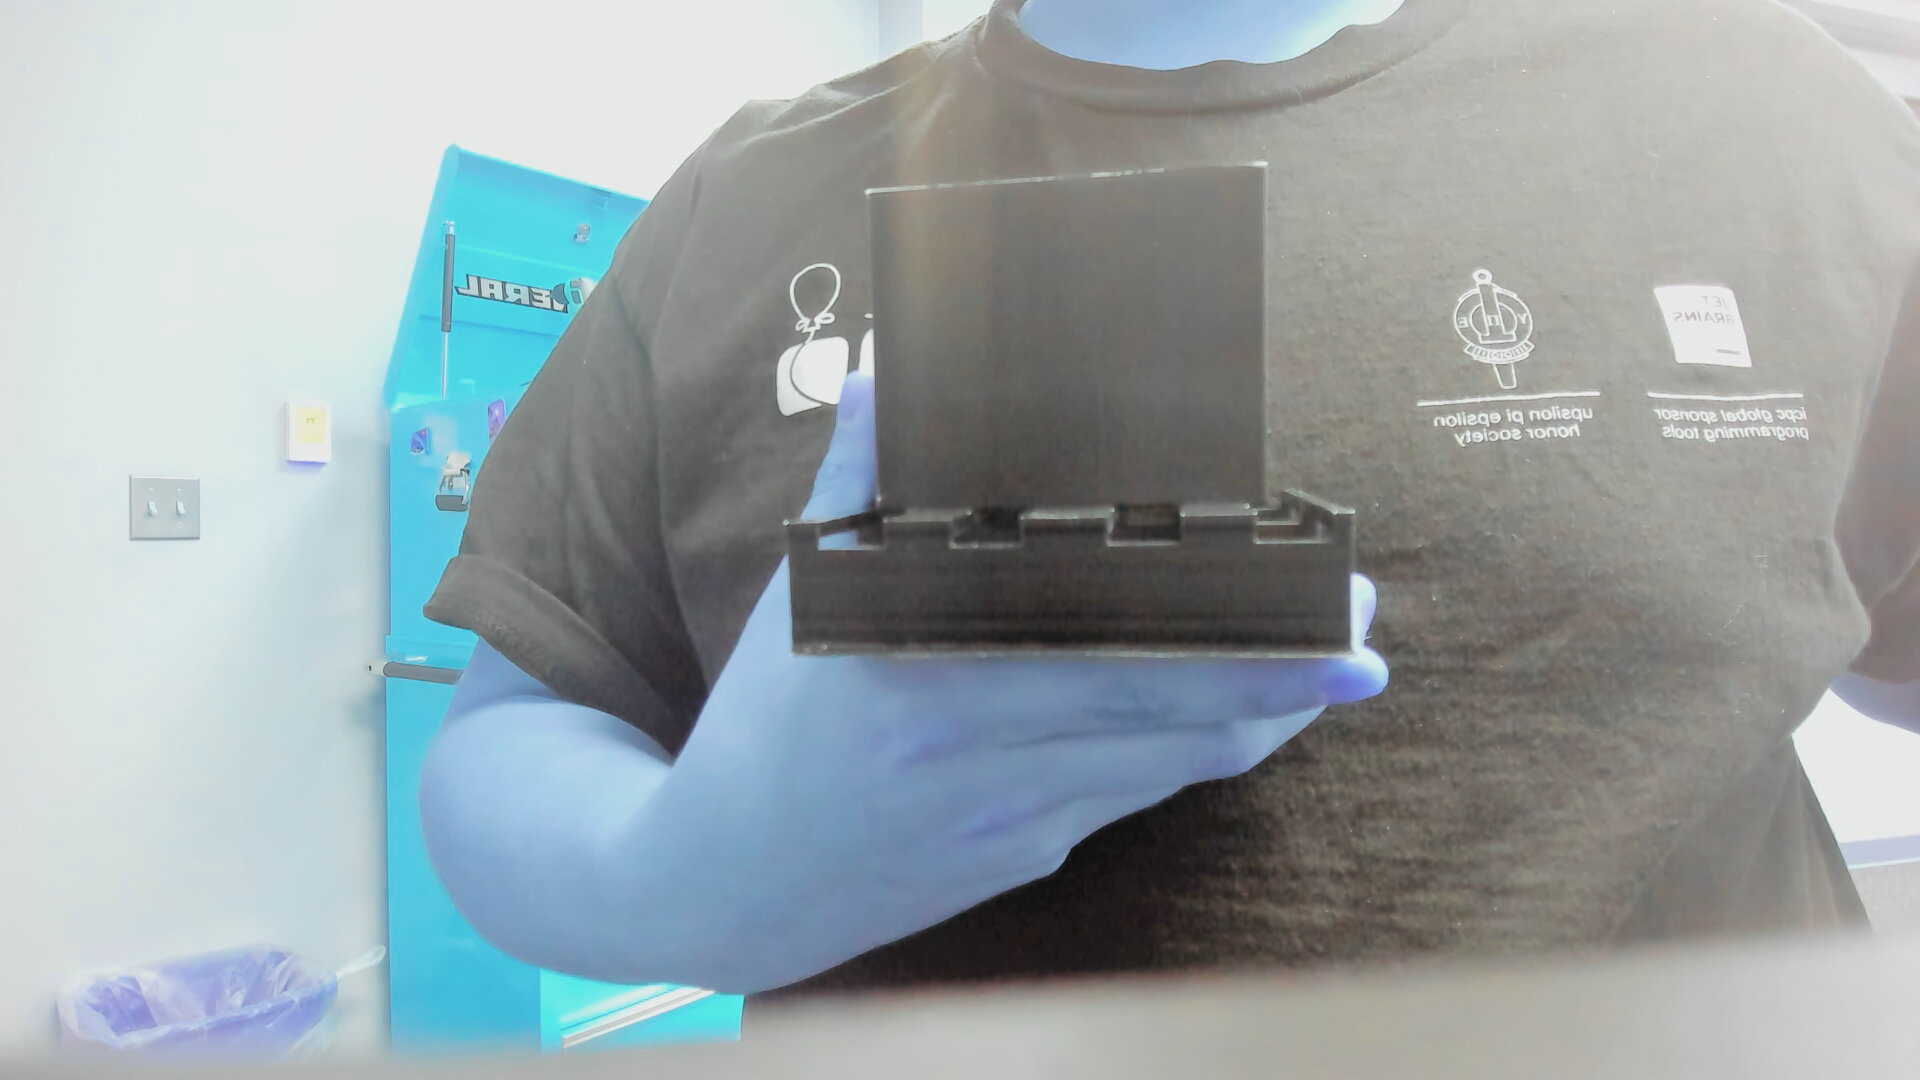black pallet: (786, 173, 1349, 651)
